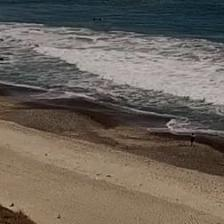surfer: (93, 18, 102, 21)
